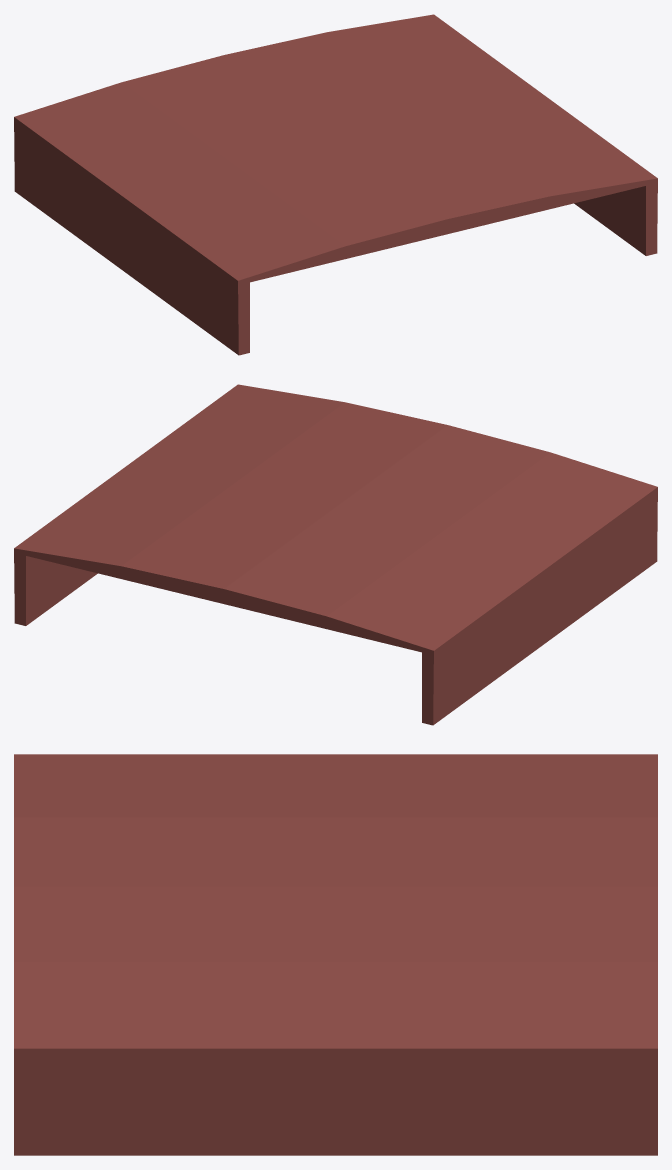
The model's file is Itr_Bed_Double_Blanket_08.FBX.
3 views of the same model, one above another, from view 1: azimuth 30°, elevation 25°; view 2: azimuth 150°, elevation 25°; view 3: azimuth 270°, elevation 25° (orthographic). The views are drawn at different scales.
Parts seen in each view (by area): view 1: Itr_Bed_Double_Blanket_08; view 2: Itr_Bed_Double_Blanket_08; view 3: Itr_Bed_Double_Blanket_08.
Part boxes in pixels (x1=…): Itr_Bed_Double_Blanket_08: x1=14, y1=14, x2=657, y2=355; Itr_Bed_Double_Blanket_08: x1=14, y1=384, x2=657, y2=725; Itr_Bed_Double_Blanket_08: x1=14, y1=754, x2=657, y2=1155.
Bounding box in the file's own units: 70.21 × 13.65 × 64.86.
